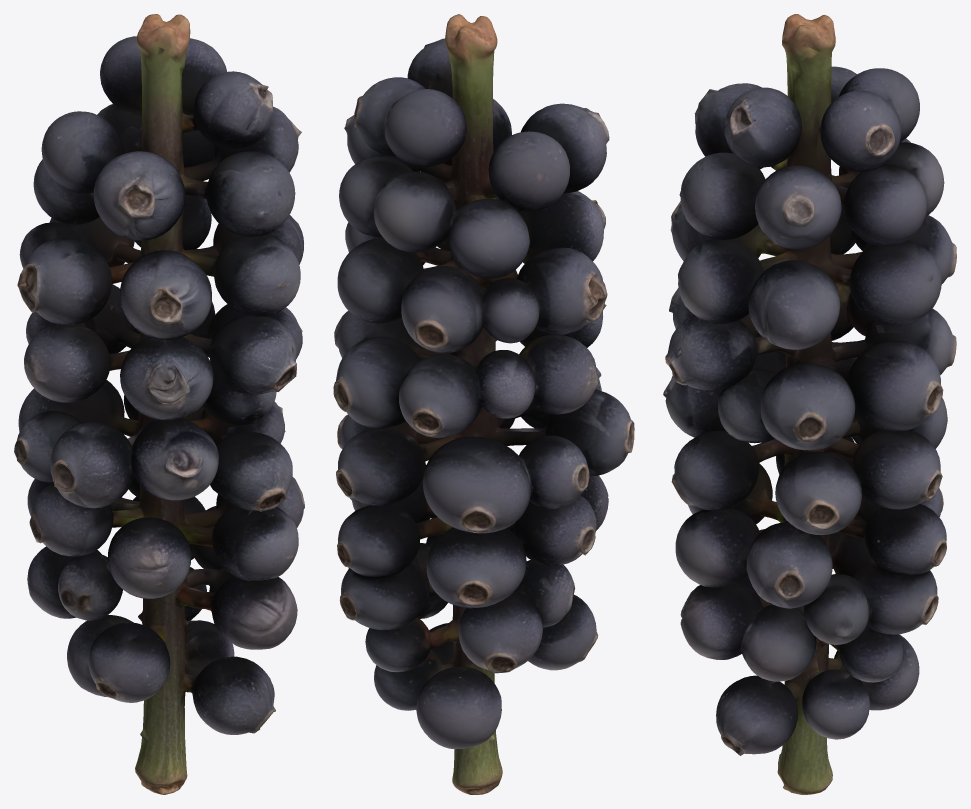
Rendered from hujiao.glb.
3 views of the same model, side by side, from view 1: azimuth 30°, elevation 25°; view 2: azimuth 150°, elevation 25°; view 3: azimuth 270°, elevation 25° (orthographic).
Visible parts, largest first — view 1: node_0; view 2: node_0; view 3: node_0.
Part boxes in pixels (x1=…): node_0: x1=14, y1=14, x2=304, y2=794; node_0: x1=333, y1=14, x2=634, y2=794; node_0: x1=663, y1=14, x2=956, y2=794.
Bounding box in the file's own units: 0.4388 × 1.2 × 0.4119.
Materials: 1 (1 with a texture image).
